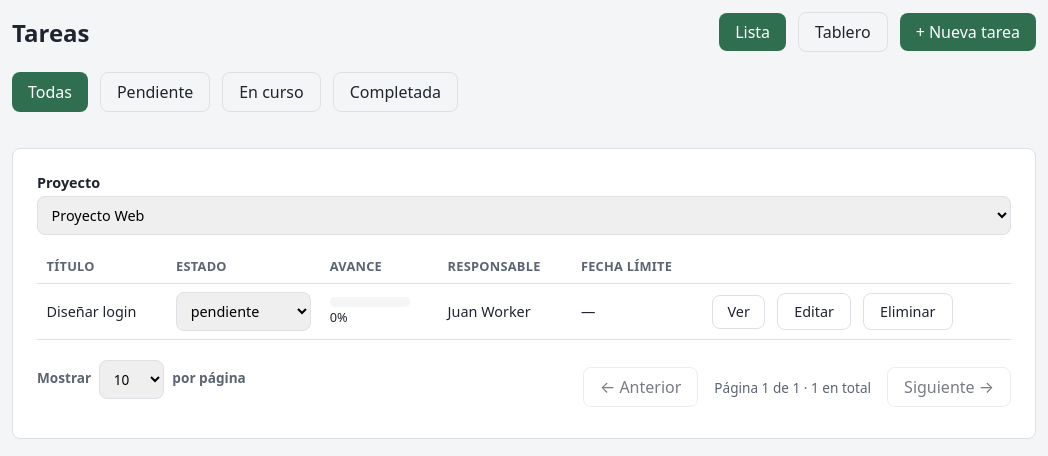
Test case: SupervisorTasks — tablero › en modo tablero se ven las columnas por estado, con el responsable de cada tarjeta
This screenshot has width=1048, height=456.
Expected: the text "Diseñar login" is shown, [37,284,166,340]
What coordinates should you click on to do the following:
click the button "Tablero"
I would click on:
 (843, 32)
Its box is [798,12,888,52].
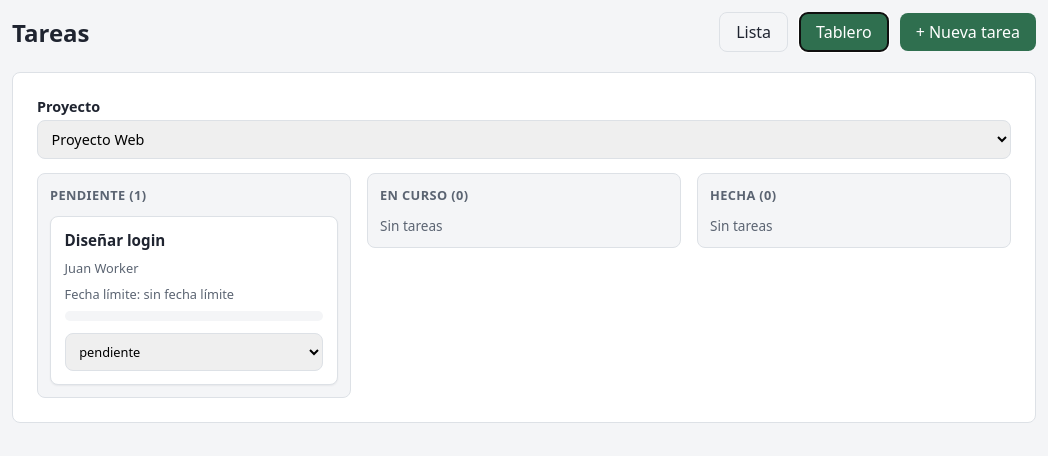
Expected: the text "Juan Worker" is shown, [65,259,138,277]
Expected: the heading "pendiente (1)" is shown, [50,186,146,204]
Expected: the table is gone
